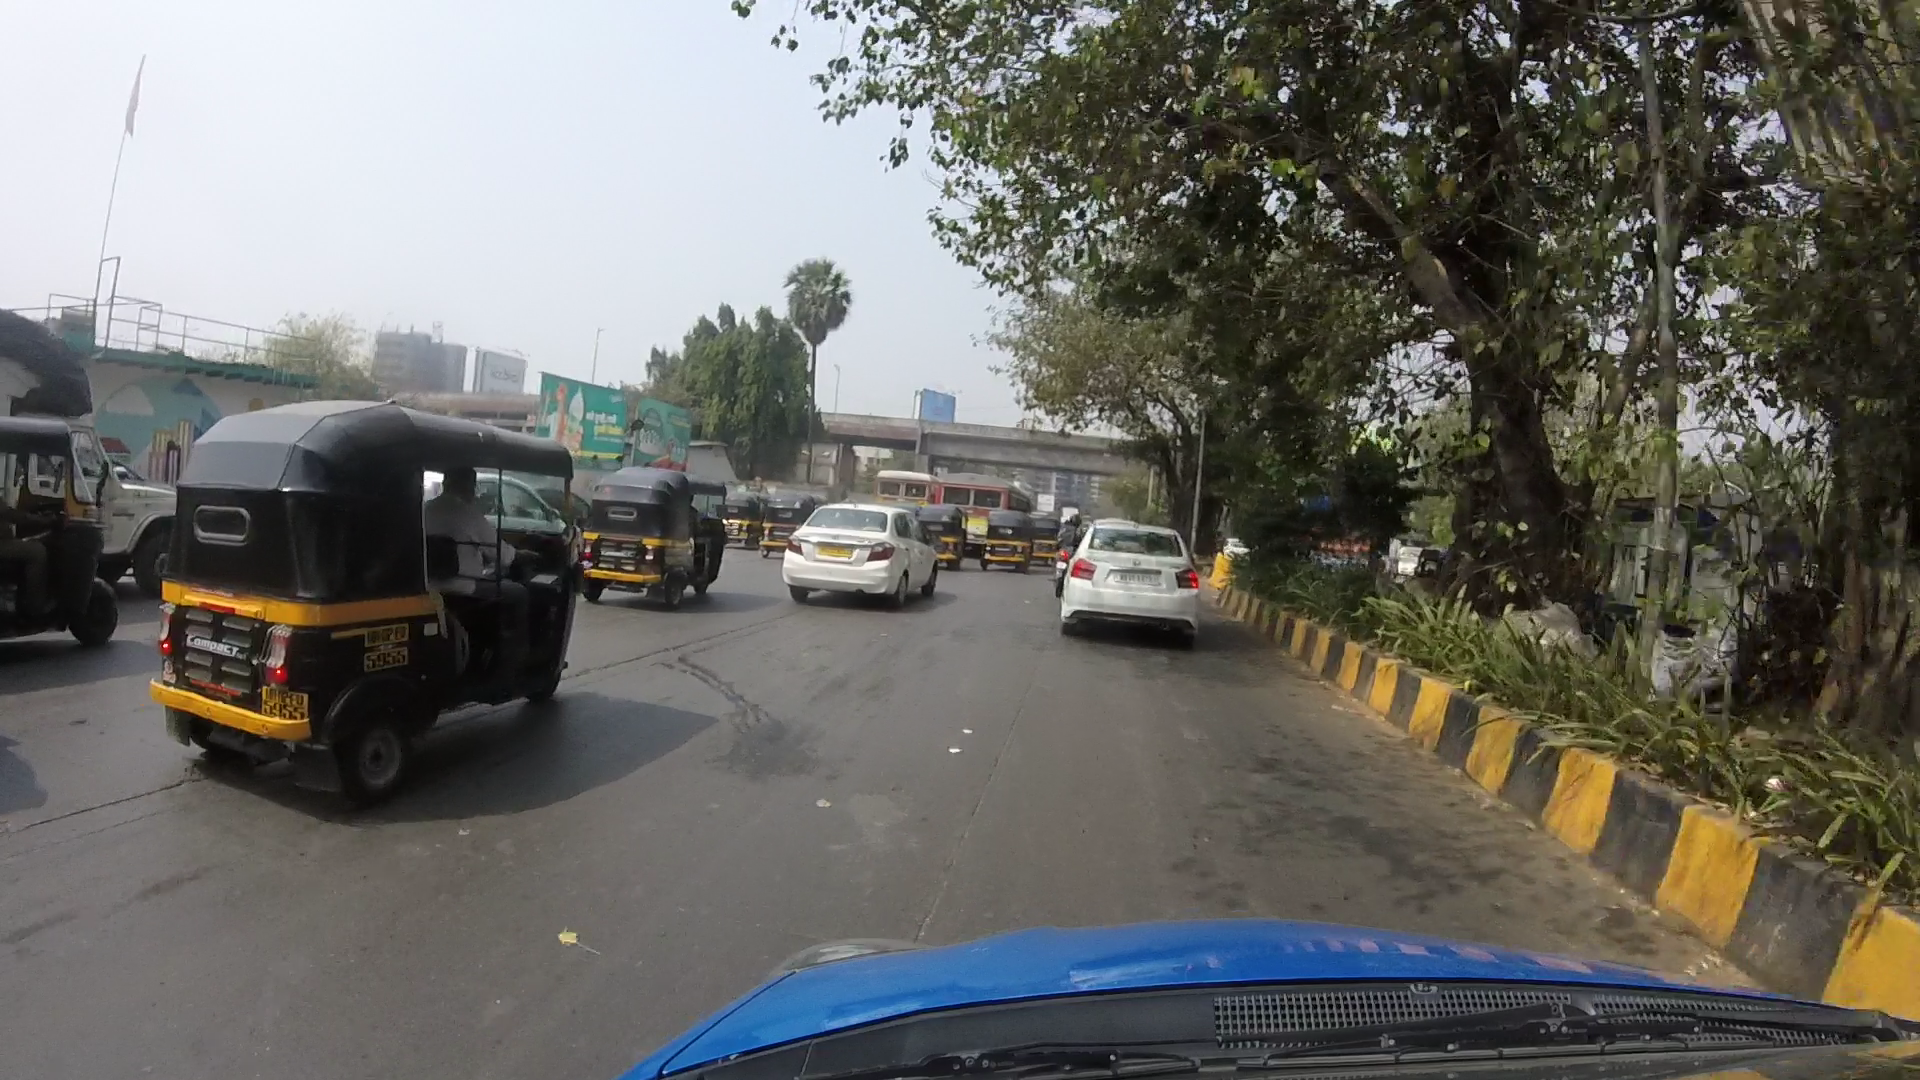car: (777, 483, 947, 636), (1054, 520, 1216, 666)
rickshaw: (160, 401, 580, 800), (7, 418, 116, 653), (589, 451, 736, 622), (980, 501, 1033, 582)
